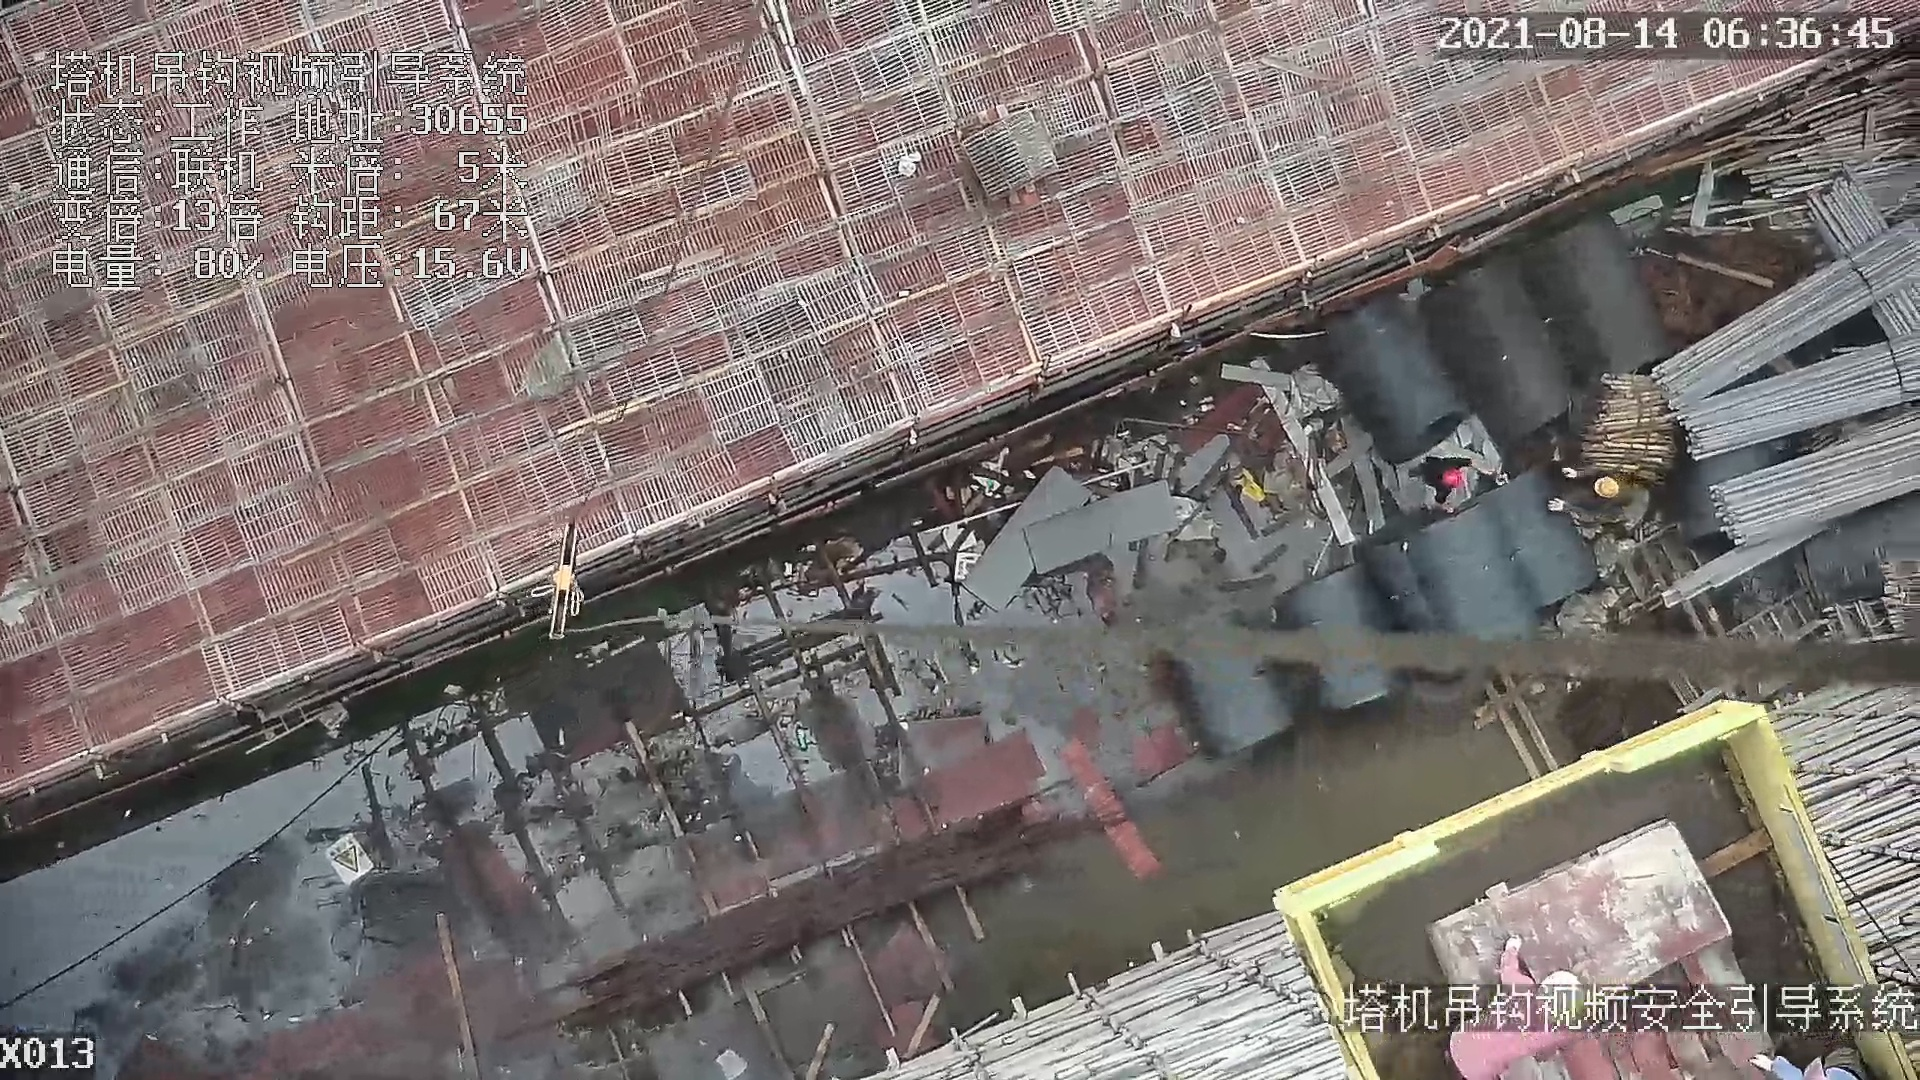helmet: (1594, 476, 1623, 500), (1440, 467, 1468, 491)
hook: (532, 521, 588, 639)
person: (1442, 946, 1601, 1071), (1554, 458, 1656, 535), (1404, 447, 1486, 515)
scaffold: (1670, 145, 1920, 562), (1563, 350, 1697, 480)
